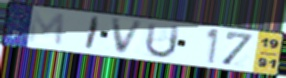1: (204, 28, 222, 67)
7: (223, 30, 256, 68)
I: (82, 15, 102, 52)
M: (26, 9, 67, 48)
U: (143, 21, 182, 60)
V: (110, 17, 147, 55)
